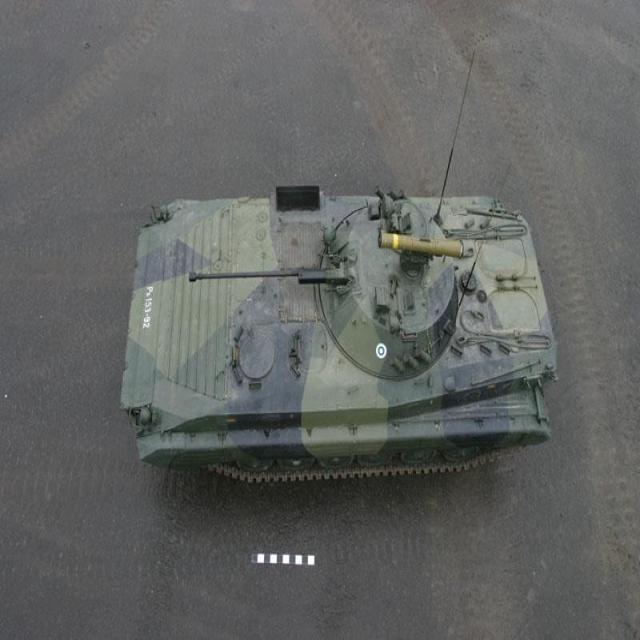Tanks: (129, 188, 559, 470)
